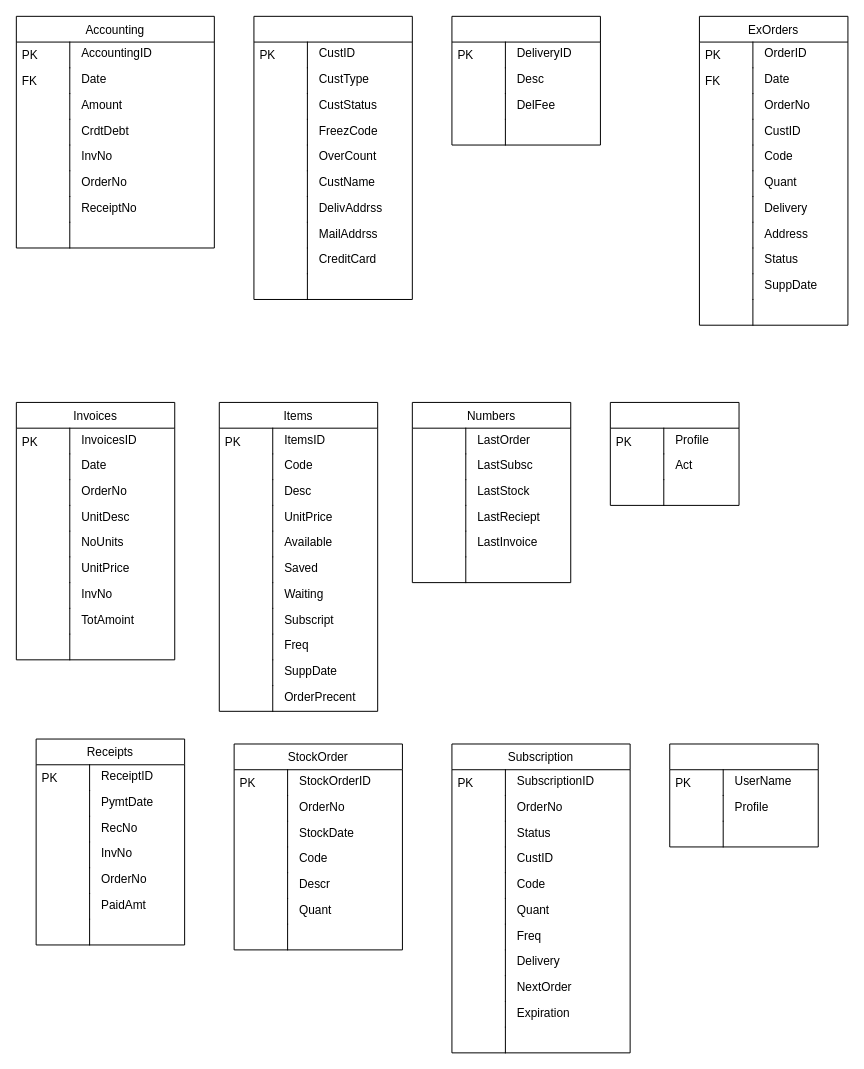
Some shapes in this 864 by 1069 pixel diagram are drawn without their labels. The shapes that lost their labels are listed below. From the top down, each one's box as (x1, y1, x2, y2) in pixels, then its label:
(451, 15, 600, 145): DeliveryFees
(253, 15, 412, 299): Customers
(609, 401, 739, 505): Profiles
(669, 743, 818, 847): Users
